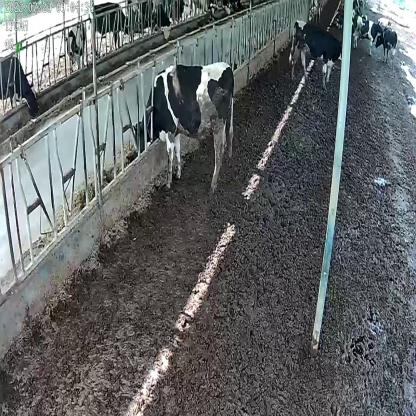cow: (132, 61, 233, 188), (289, 19, 342, 88), (354, 16, 382, 56), (375, 26, 398, 70)
